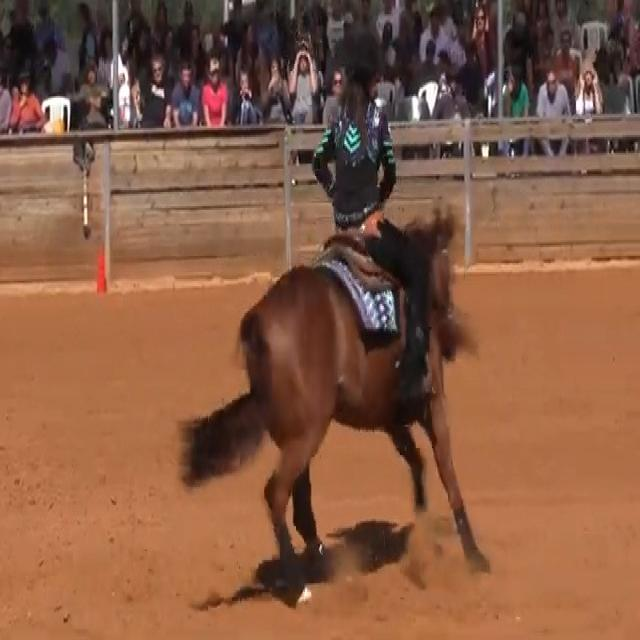horse: (176, 203, 492, 597)
